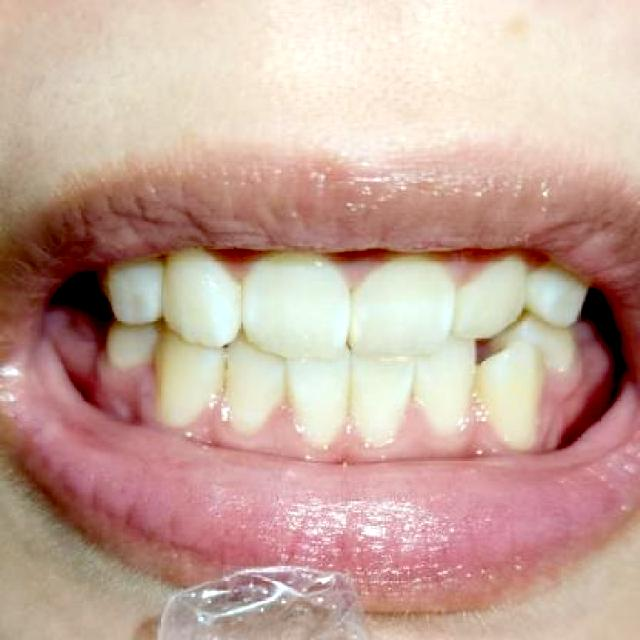Plaque: (489, 401, 556, 470), (122, 347, 164, 423)
